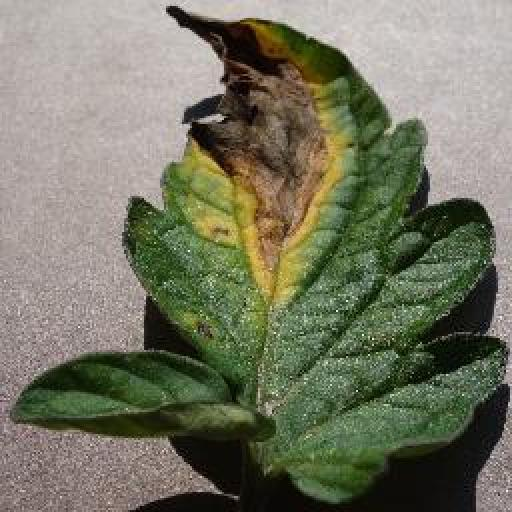Early Blight: (18, 8, 512, 512)
